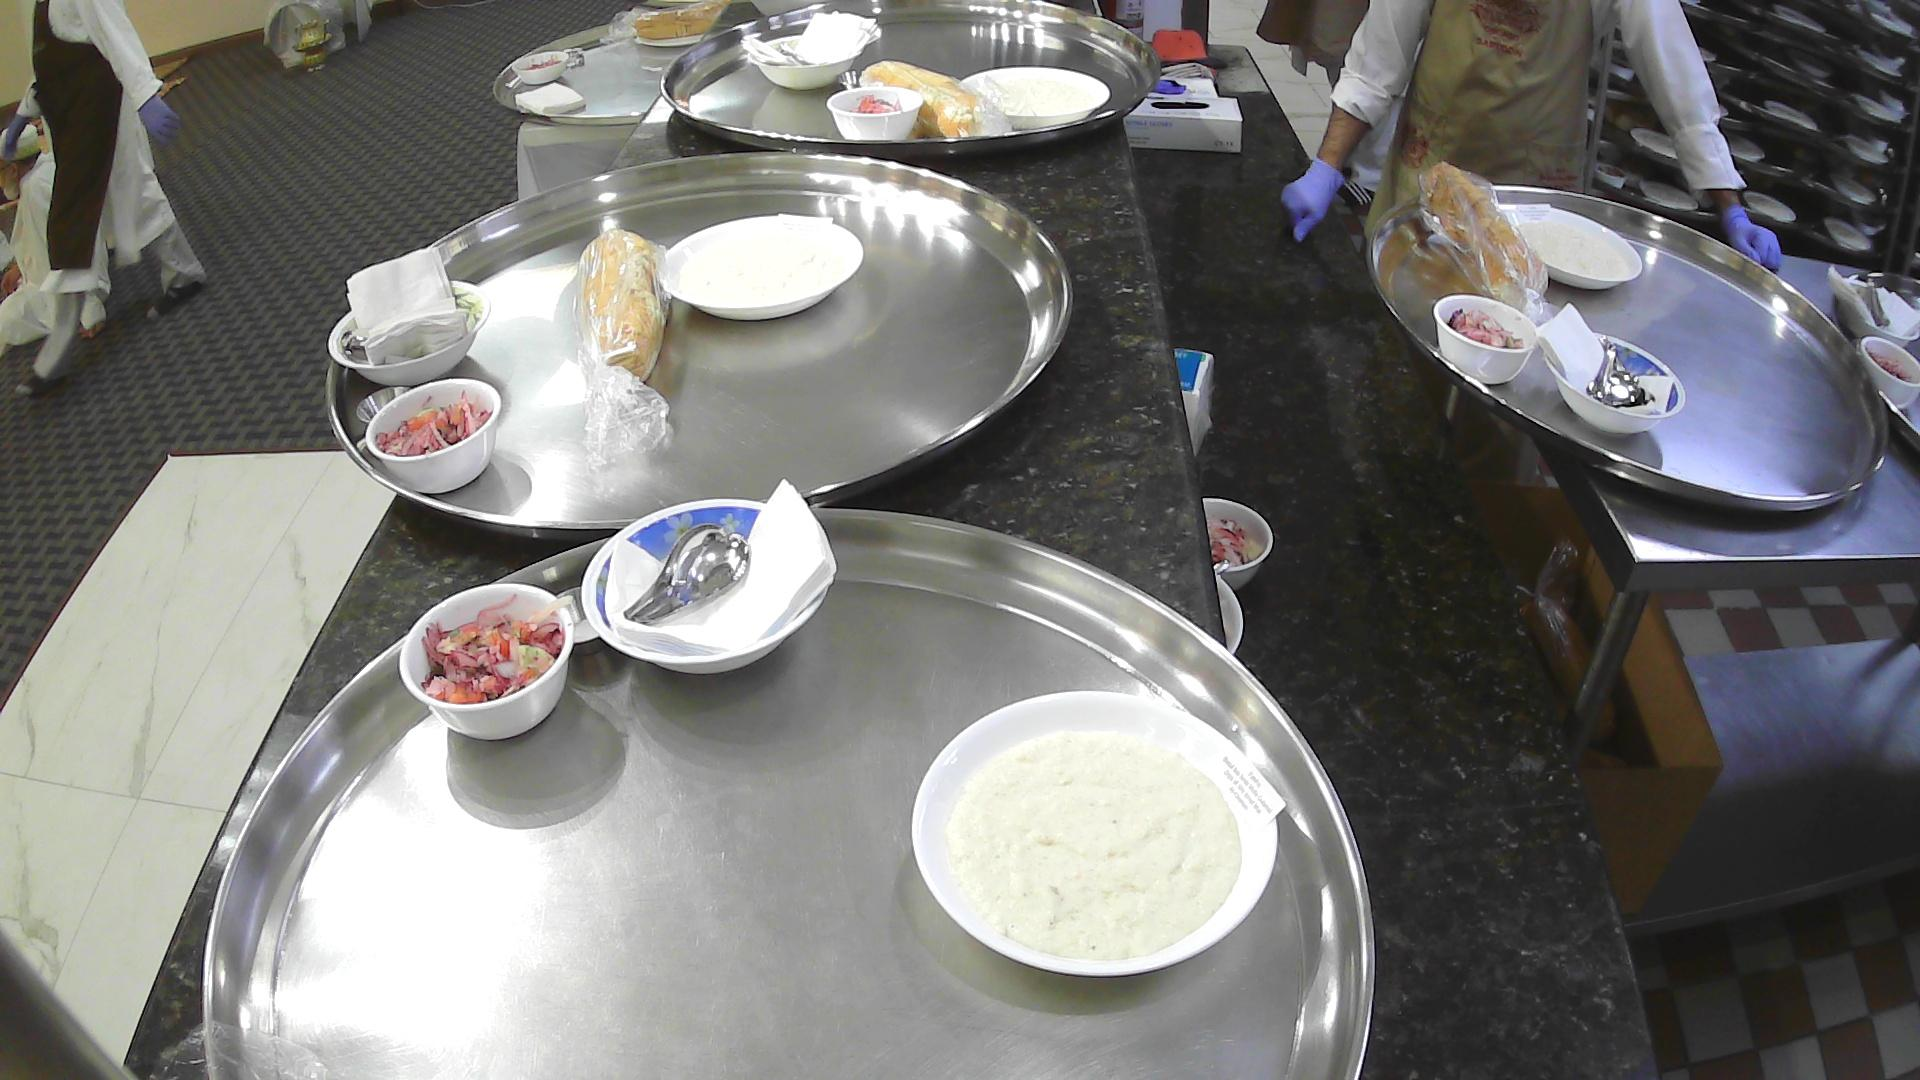thaal: (199, 505, 1379, 1080), (322, 148, 1077, 543), (1362, 182, 1894, 518), (659, 0, 1162, 164), (492, 11, 707, 129), (1828, 269, 1920, 460)
